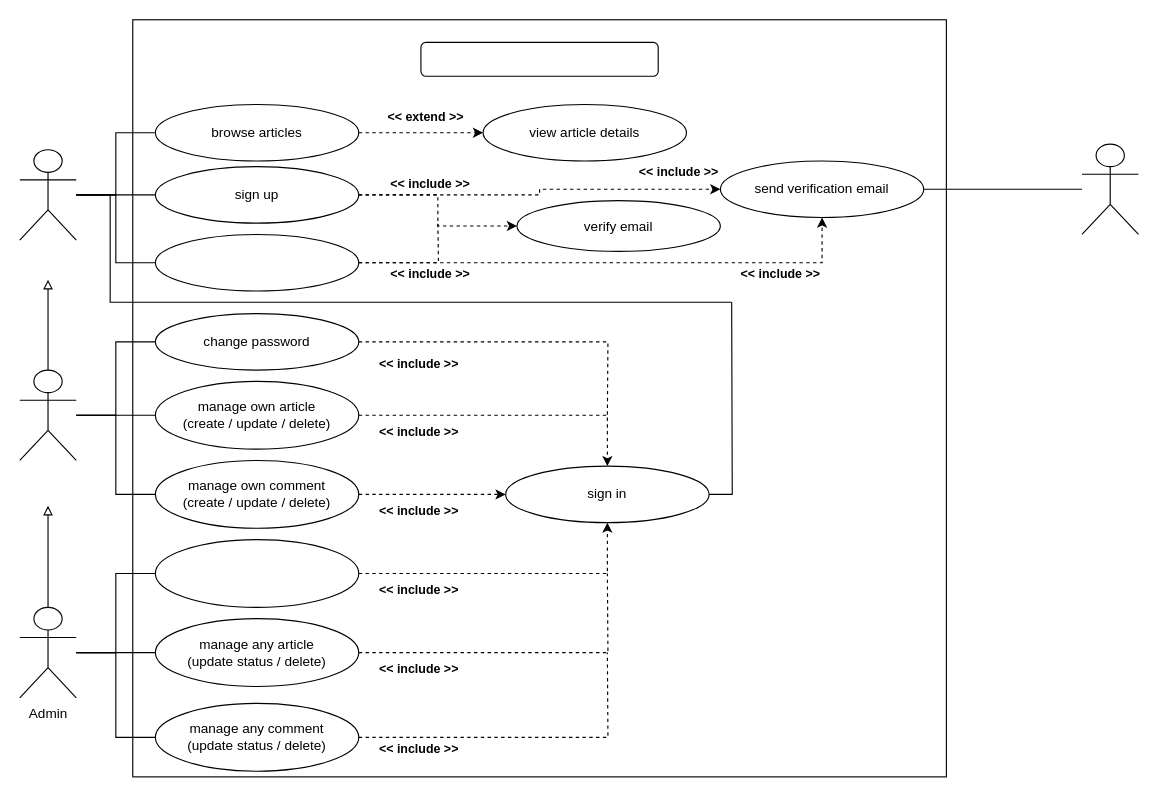
Some shapes in this 1170 by 797 pixel diagram are drawn without their labels. The shapes that lost their labels are listed below. From the top down, each one's centre as x and y in pixels, then its label:
the point at 539,58: Blog Management System
the point at 47,194: Guest
the point at 1109,188: Email service
the point at 256,262: reset password
the point at 47,414: User
the point at 256,572: manage users (create / update / delete)
